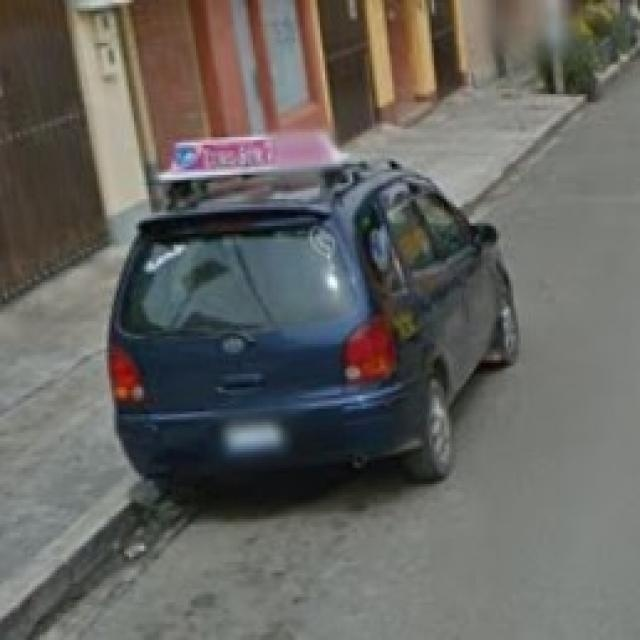Car: (114, 158, 508, 496)
